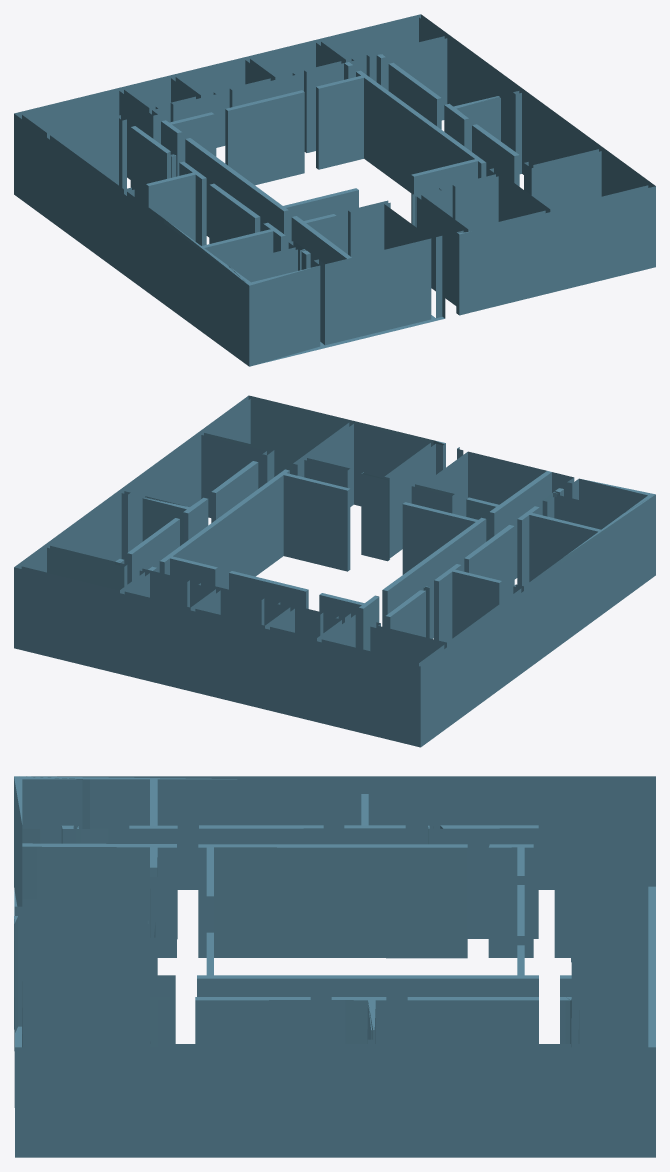
Rendered from Untitled.blend2.glb.
The picture shows the model from 3 angles, top to bottom: view 1: azimuth 30°, elevation 25°; view 2: azimuth 150°, elevation 25°; view 3: azimuth 270°, elevation 25°; orthographic projection. The views are drawn at different scales.
Parts seen in each view (by area): view 1: 立方体-col; view 2: 立方体-col; view 3: 立方体-col.
Boxes of the visible parts, bbox=[...] form: 立方体-col: bbox=[14, 14, 655, 366]; 立方体-col: bbox=[14, 395, 655, 747]; 立方体-col: bbox=[14, 776, 655, 1157].
Size of the model in its own units: 0.2887 by 0.0549 by 0.2892.
